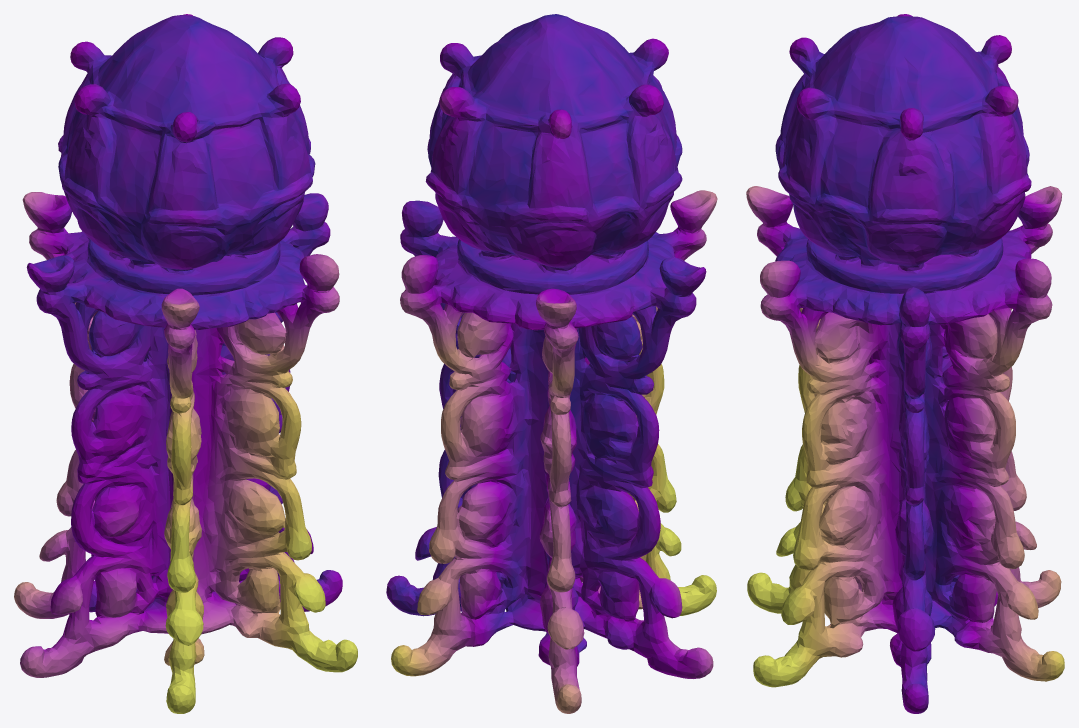
File: iter_11.glb
3 renders of one model, left to right at view 1: azimuth 30°, elevation 25°; view 2: azimuth 150°, elevation 25°; view 3: azimuth 270°, elevation 25°, orthographic.
Parts seen in each view (by area): view 1: textured_mesh; view 2: textured_mesh; view 3: textured_mesh.
Boxes of the visible parts, x1,y1,x2,y2 form: textured_mesh: (14, 14, 357, 713); textured_mesh: (386, 14, 717, 713); textured_mesh: (746, 14, 1064, 713).
Bounding box in the file's own units: 1.07 × 1.99 × 0.9177.
